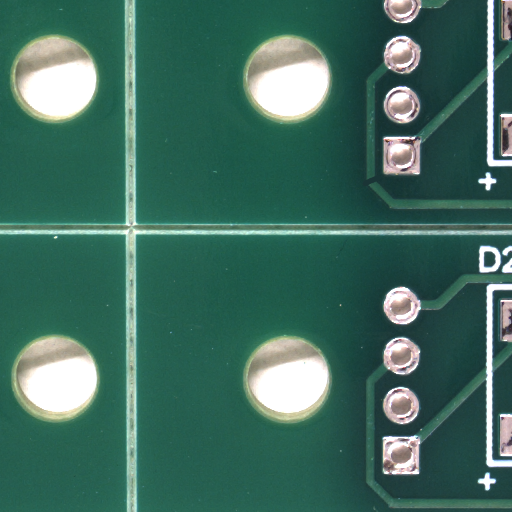Open_circuit: (370, 180, 387, 190)
